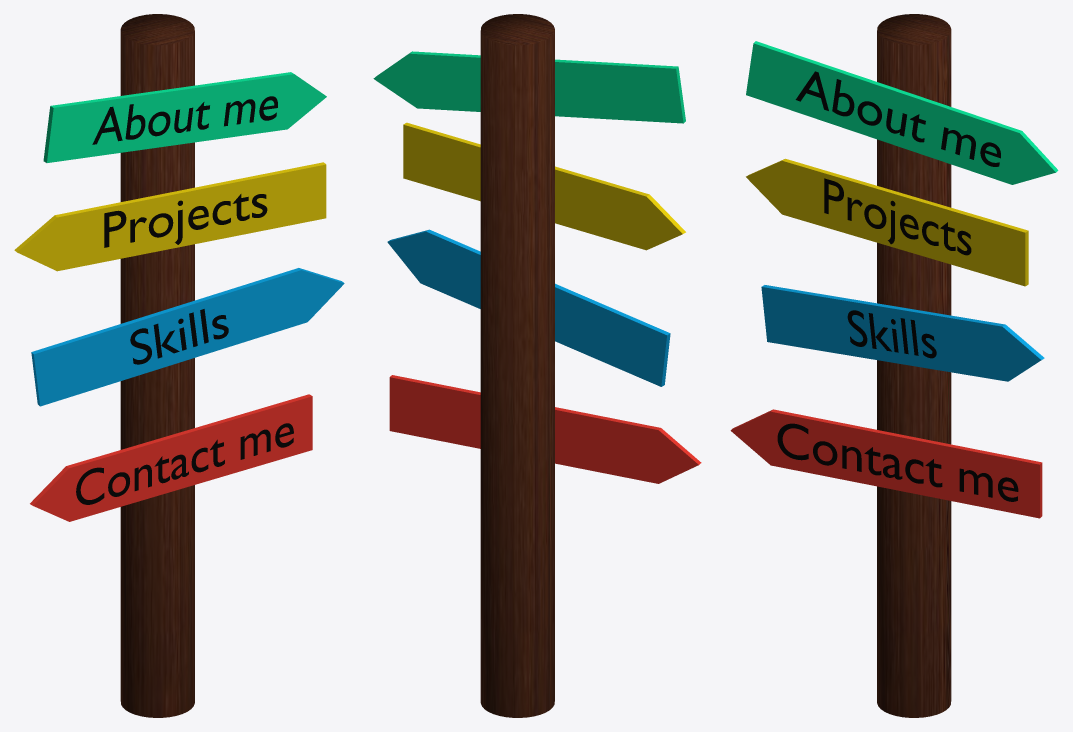
File: sing.gltf
3 views of the same model, side by side, from view 1: azimuth 30°, elevation 25°; view 2: azimuth 150°, elevation 25°; view 3: azimuth 330°, elevation 25° (orthographic).
Parts seen in each view (by area): view 1: Sign, Skills, Projects, AboutMe, ContactMe, TextContactMe, TextAboutMe, TextProjects, TextSkills; view 2: Sign, ContactMe, AboutMe, Skills, Projects; view 3: Sign, AboutMe, ContactMe, Skills, Projects, TextContactMe, TextAboutMe, TextProjects, TextSkills.
Part boxes in pixels (box(x1,y1,x2,y2)): Sign: box(120, 14, 194, 717); Skills: box(31, 268, 344, 406); Projects: box(14, 162, 326, 271); AboutMe: box(43, 72, 326, 162); ContactMe: box(30, 394, 312, 521); TextContactMe: box(76, 423, 293, 504); TextAboutMe: box(92, 96, 277, 144); TextProjects: box(104, 194, 267, 247); TextSkills: box(130, 309, 228, 364); Sign: box(480, 14, 554, 717); ContactMe: box(389, 375, 701, 483); AboutMe: box(373, 51, 685, 123); Skills: box(387, 229, 670, 386); Projects: box(403, 122, 685, 250); Sign: box(877, 14, 951, 717); AboutMe: box(746, 41, 1058, 184); ContactMe: box(730, 409, 1042, 518); Skills: box(761, 285, 1044, 381); Projects: box(746, 158, 1028, 286); TextContactMe: box(777, 423, 1018, 501); TextAboutMe: box(795, 71, 1000, 166); TextProjects: box(824, 178, 971, 255); TextSkills: box(847, 310, 936, 358).
Size of the model in its own units: 1.21 by 2.5 by 0.3257.
6 materials, 1 textured.
